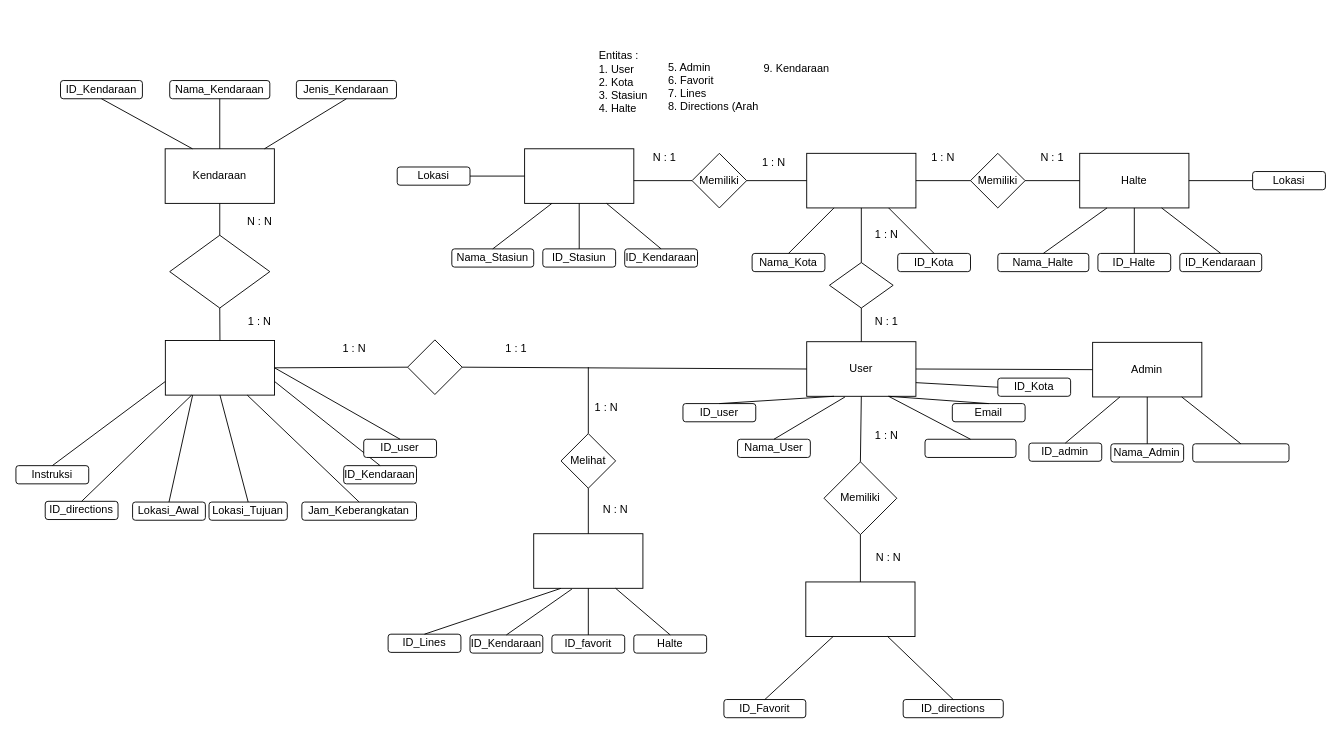
The diagram is 1341 pixels wide and 733 high, and some of its shapes have lost their labels. The shapes that lost their labels are listed below. From the top down, each one's box as (x1, y1, x2, y2) in pixels, then its label:
(524, 148, 634, 203): Stasiun
(806, 152, 916, 208): Kota
(169, 234, 270, 308): Menggunakan
(829, 262, 893, 308): tinggal di
(164, 340, 275, 395): Directions (Arah)
(407, 339, 462, 394): Memilih
(924, 438, 1016, 457): Password_User
(1192, 443, 1289, 462): Password_Admin
(533, 533, 643, 588): Lines
(805, 581, 915, 637): Favorite
